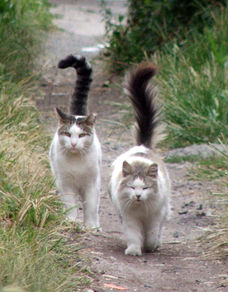Cat: (106, 62, 175, 261), (43, 55, 104, 233)
